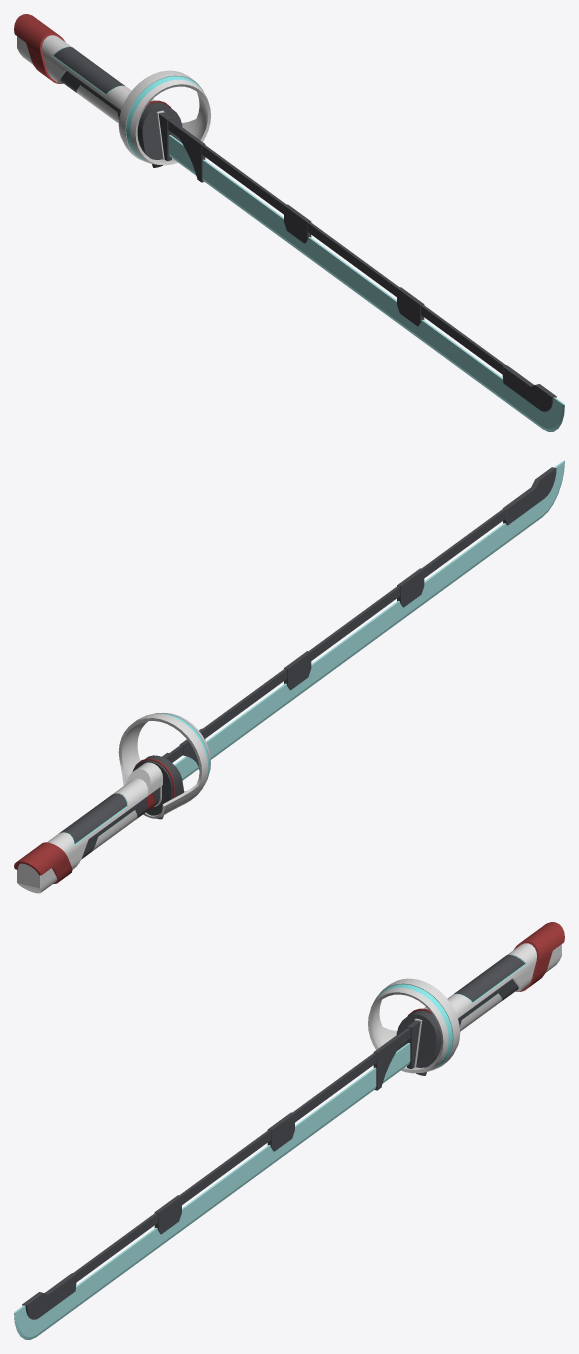
The model's file is PlasmaKatana.fbx.
3 renders of one model, top to bottom at view 1: azimuth 30°, elevation 25°; view 2: azimuth 150°, elevation 25°; view 3: azimuth 330°, elevation 25°, orthographic.
Parts seen in each view (by area): view 1: PlasmaKatana; view 2: PlasmaKatana; view 3: PlasmaKatana.
Boxes of the visible parts, bbox=[...] form: PlasmaKatana: bbox=[14, 14, 564, 431]; PlasmaKatana: bbox=[14, 460, 564, 893]; PlasmaKatana: bbox=[14, 922, 564, 1339].
Bounding box in the file's own units: 9.51 × 10.6 × 106.
